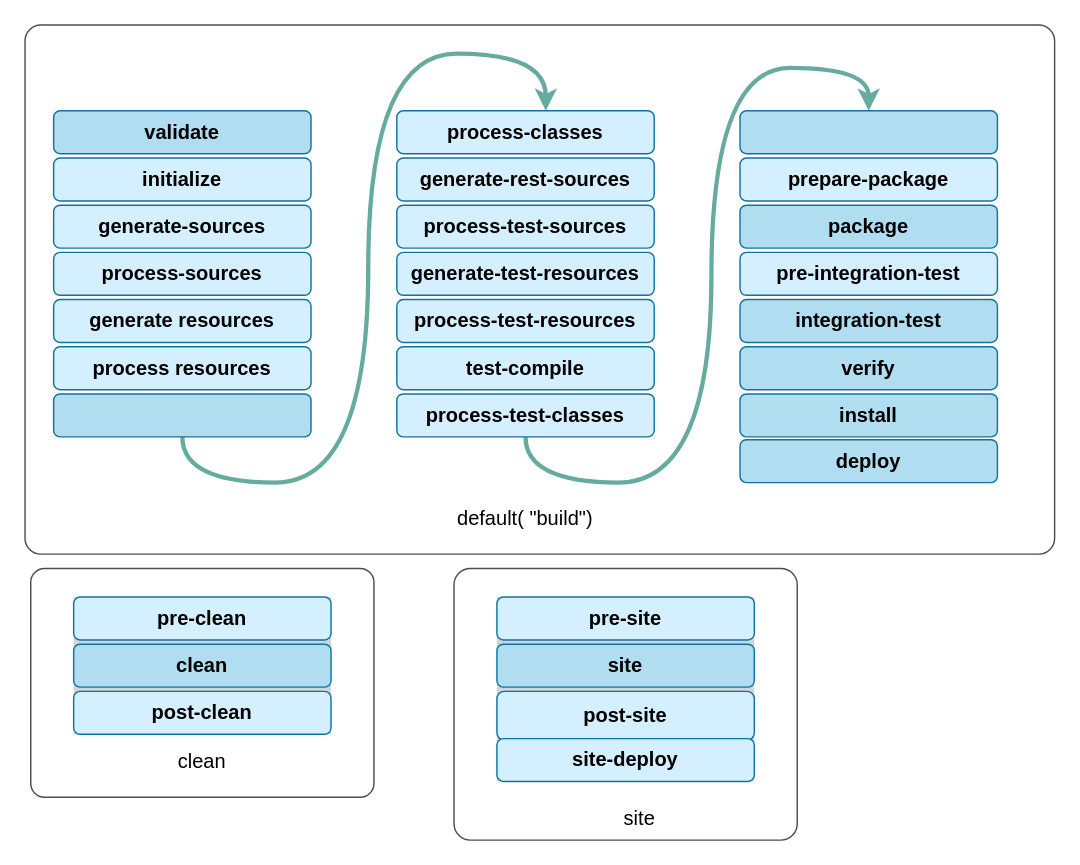
Some shapes in this 1080 by 865 pixel diagram are drawn without their labels. Here are the shapes that lost their labels. From the top down, the centre of each, then its label:
At point 868,131: "test".
At point 181,415: "compile".
